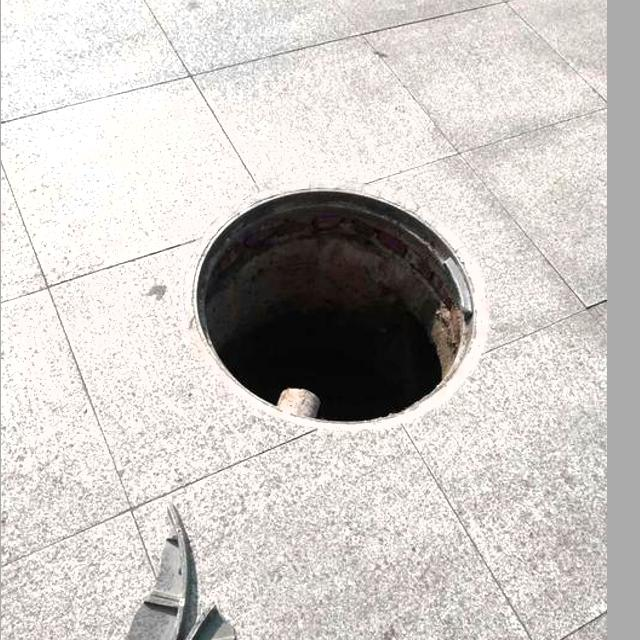lose: (165, 171, 488, 447)
